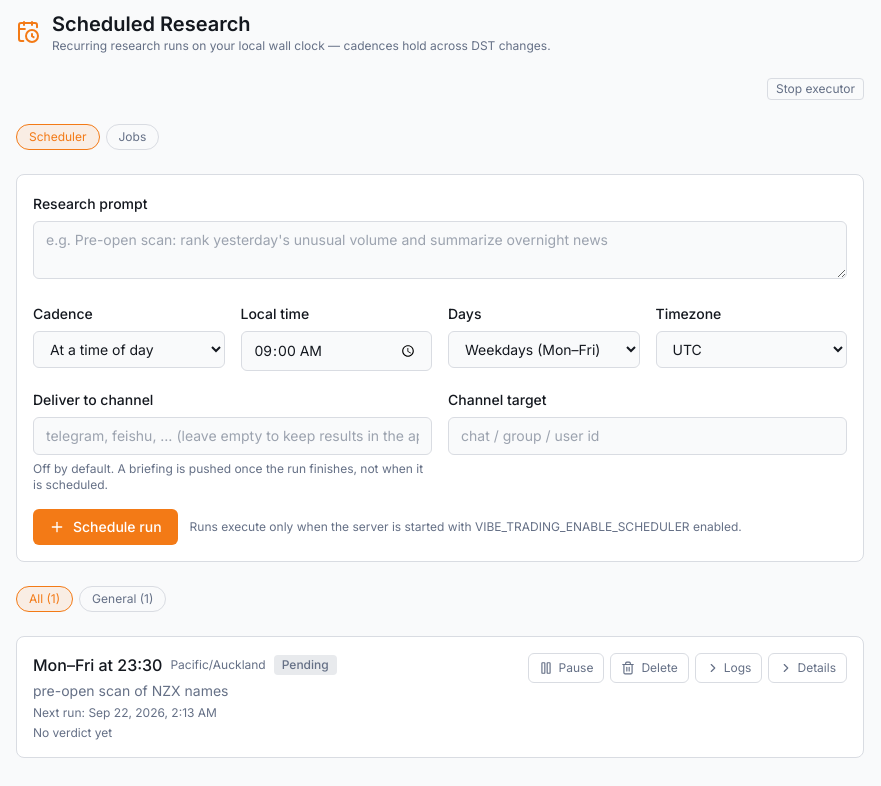
Test: live-log-tail › clicking Logs again collapses the tail and closes the connection
Click the button with aria-label "Toggle live logs" at (729, 668), box [695,653,762,683]
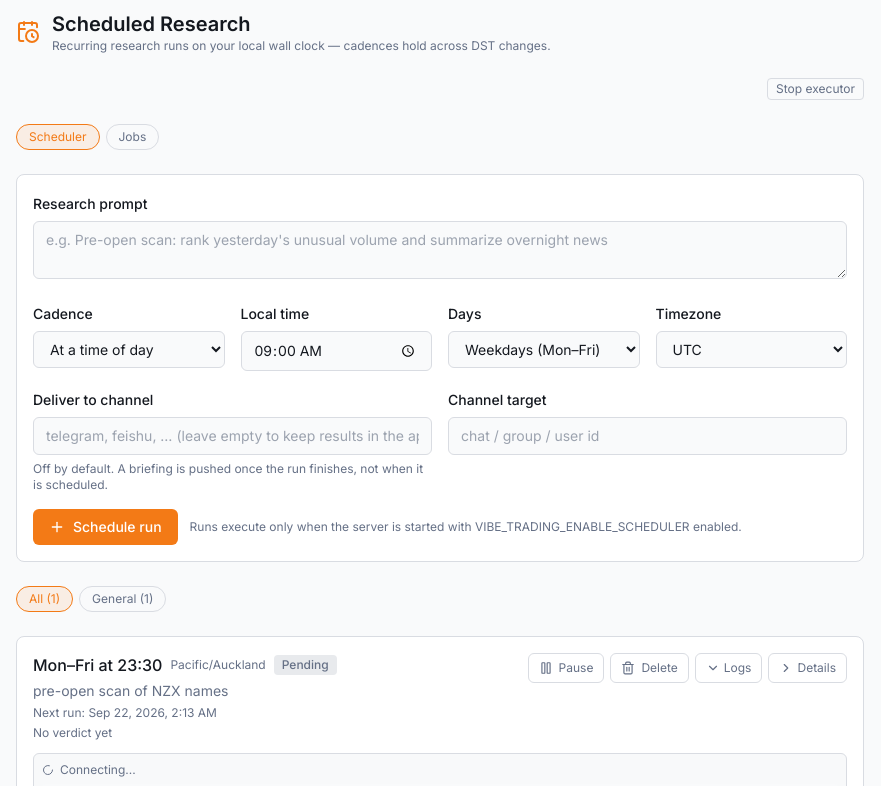
Click the button with aria-label "Toggle live logs" at (729, 668), box [695,653,762,683]
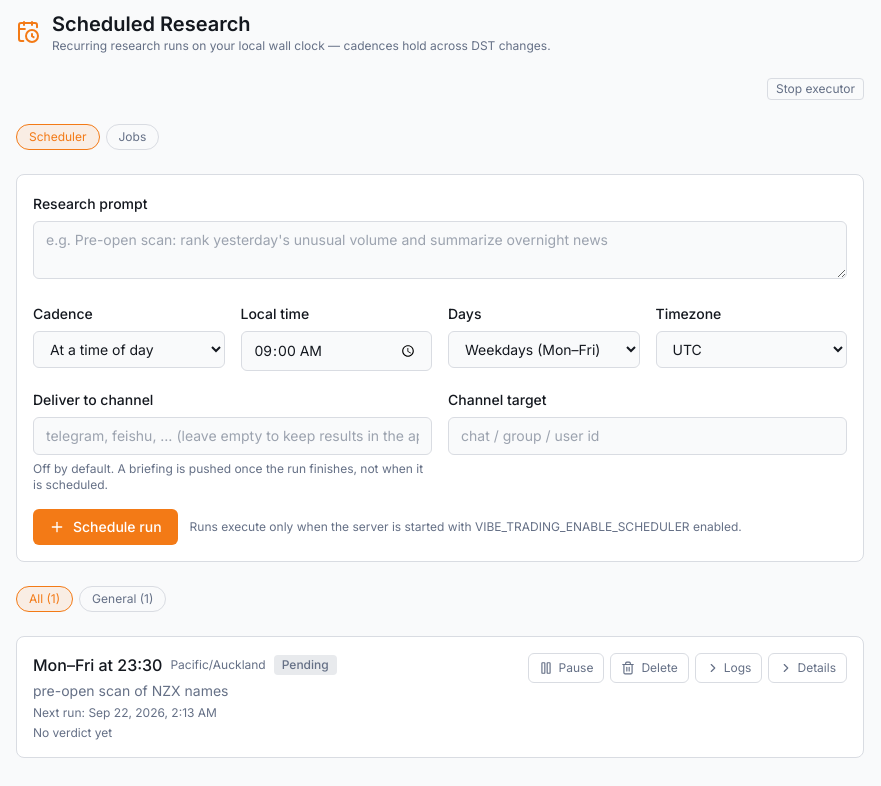
Expected: the text "Connecting..." is gone
